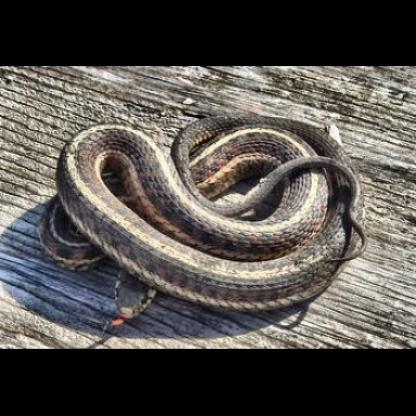Snake: (38, 112, 404, 326)
